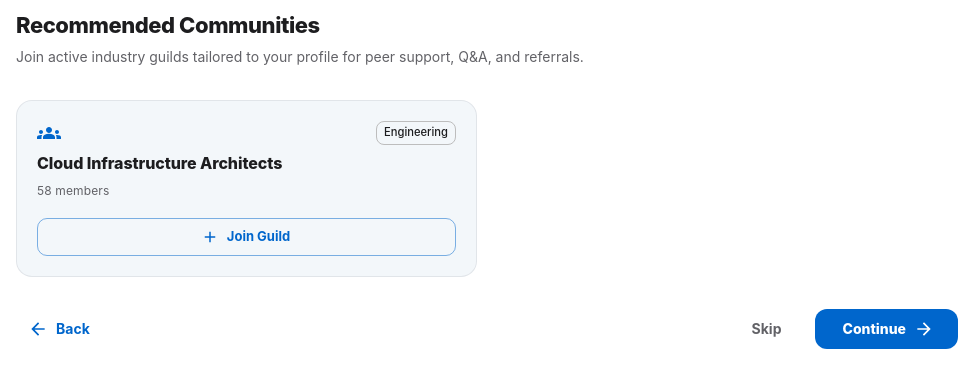
Test: Onboarding & First-Time User Experience Test Suite › CommunitiesStep › renders real communities and toggles joined state
The image size is (975, 366).
Expected: the heading "Cloud Infrastructure Architects" is shown, [37,153,282,173]
Expected: the text "Engineering" is shown, [384,125,448,139]
Click the button "Join Guild".
click(246, 237)  # box [37,218,456,256]
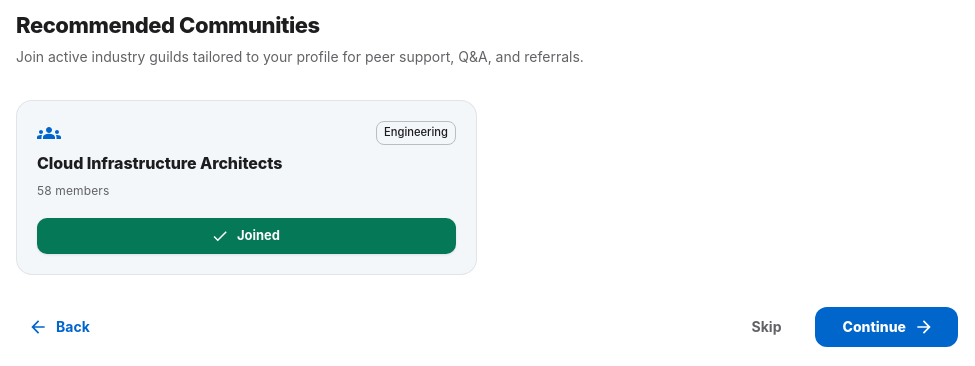
Expected: the button "Joined" is shown, [37,218,456,254]
